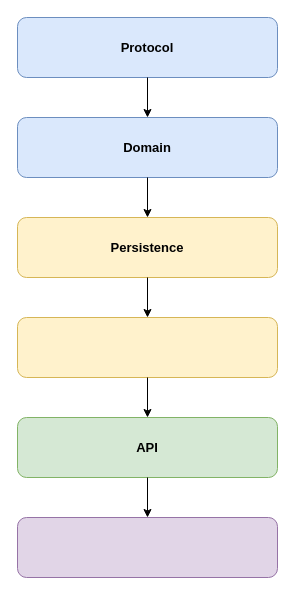
Image size: 295x595. Some labels were removed from this diagram. Here are the shapes that lost their labels. From the top down, the box of each, then its label:
(16, 316, 278, 378): Application Services
(16, 516, 278, 578): Desktop Client
